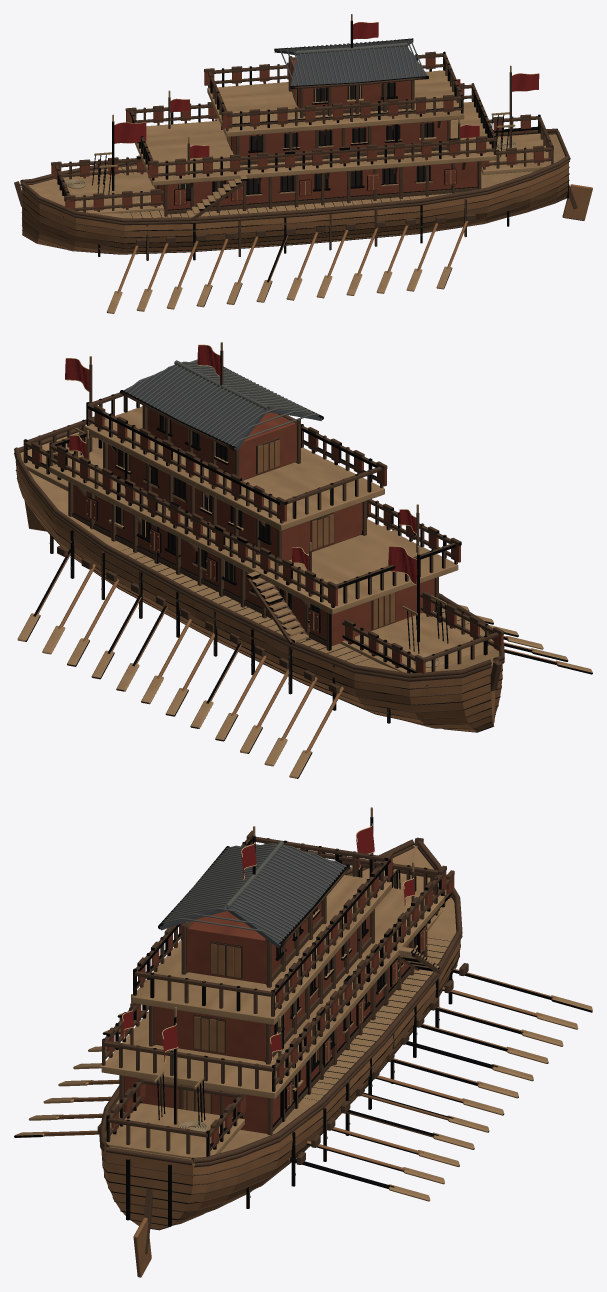
Rendered from shipModelData-tower.glb.
The picture shows the model from 3 angles, top to bottom: view 1: azimuth 30°, elevation 25°; view 2: azimuth 150°, elevation 25°; view 3: azimuth 270°, elevation 25°; orthographic projection. The views are drawn at different scales.
Parts seen in each view (by area): view 1: 船尾横板缝, 露天甲板, 封闭船壳 船底 首尾封板, 楼橹舱体, 爵室歇山木瓦顶, 弩窗暗部, 屋脊, 绛色军旗, 旗杆顶枪头; view 2: 船尾横板缝, 露天甲板, 封闭船壳 船底 首尾封板, 楼橹舱体, 屋脊, 爵室歇山木瓦顶, 绛色军旗, 弩窗暗部; view 3: 船尾横板缝, 露天甲板, 封闭船壳 船底 首尾封板, 楼橹舱体, 屋脊, 爵室歇山木瓦顶, 绛色军旗.
Part boxes in pixels (x1=…): 船尾横板缝: x1=14, y1=21, x2=577, y2=260; 露天甲板: x1=28, y1=70, x2=565, y2=313; 封闭船壳 船底 首尾封板: x1=22, y1=89, x2=592, y2=293; 楼橹舱体: x1=51, y1=57, x2=543, y2=210; 爵室歇山木瓦顶: x1=274, y1=40, x2=427, y2=89; 弩窗暗部: x1=178, y1=82, x2=434, y2=198; 屋脊: x1=278, y1=38, x2=424, y2=85; 绛色军旗: x1=114, y1=22, x2=539, y2=158; 旗杆顶枪头: x1=94, y1=14, x2=515, y2=204; 船尾横板缝: x1=14, y1=350, x2=504, y2=732; 露天甲板: x1=17, y1=406, x2=592, y2=778; 封闭船壳 船底 首尾封板: x1=16, y1=439, x2=561, y2=753; 楼橹舱体: x1=32, y1=408, x2=503, y2=673; 屋脊: x1=125, y1=359, x2=319, y2=445; 爵室歇山木瓦顶: x1=123, y1=363, x2=322, y2=451; 绛色军旗: x1=65, y1=345, x2=417, y2=584; 弩窗暗部: x1=116, y1=414, x2=320, y2=612; 船尾横板缝: x1=97, y1=817, x2=468, y2=1254; 露天甲板: x1=14, y1=846, x2=592, y2=1201; 封闭船壳 船底 首尾封板: x1=41, y1=941, x2=556, y2=1277; 楼橹舱体: x1=106, y1=841, x2=454, y2=1147; 屋脊: x1=162, y1=841, x2=346, y2=941; 爵室歇山木瓦顶: x1=160, y1=845, x2=345, y2=948; 绛色军旗: x1=122, y1=824, x2=414, y2=1062.
Bounding box in the file's own units: 13.75 × 6.14 × 10.14.
Materials: 12 (4 with a texture image).
